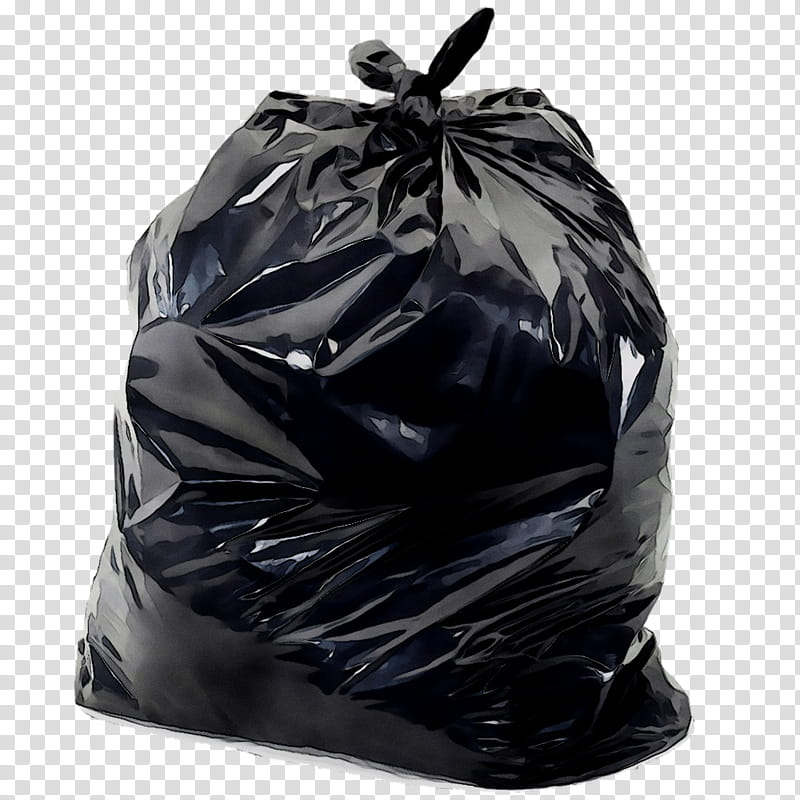plastic_bagwdw: (59, 3, 760, 800)
